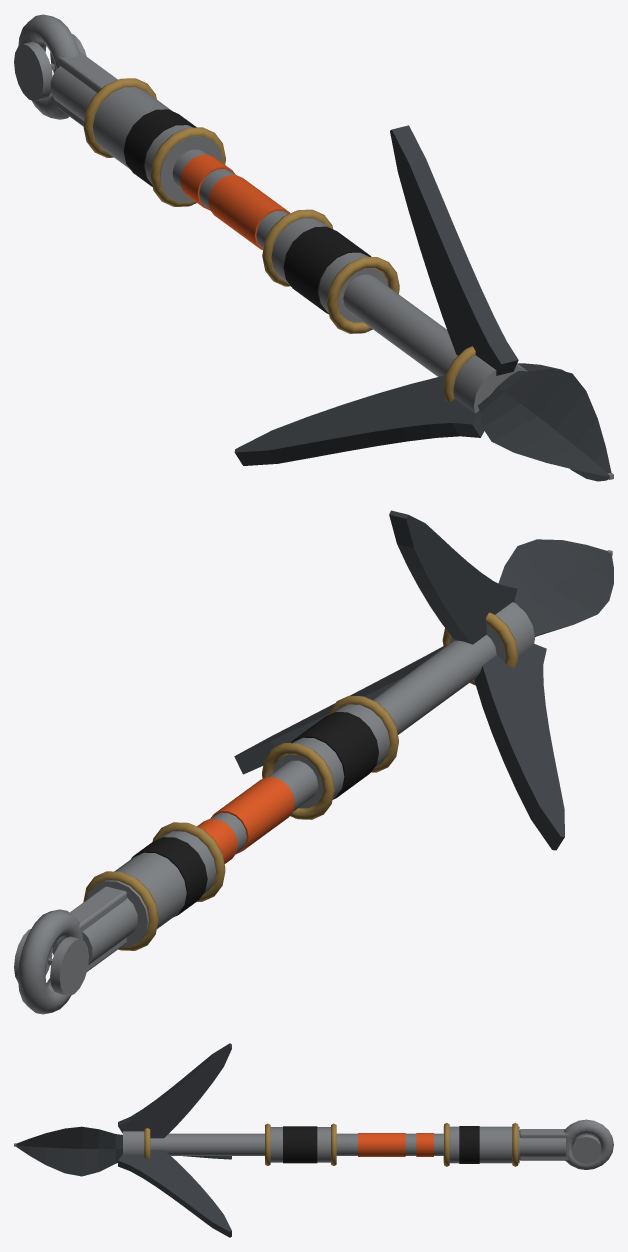
Rendered from grapple_harpoon.fbx.
3 views of the same model, one above another, from view 1: azimuth 30°, elevation 25°; view 2: azimuth 150°, elevation 25°; view 3: azimuth 270°, elevation 25° (orthographic). The views are drawn at different scales.
Parts seen in each view (by area): view 1: Mesh_GrappleHarpoon; view 2: Mesh_GrappleHarpoon; view 3: Mesh_GrappleHarpoon.
Boxes of the visible parts, bbox=[...] form: Mesh_GrappleHarpoon: bbox=[14, 14, 611, 481]; Mesh_GrappleHarpoon: bbox=[14, 510, 613, 1014]; Mesh_GrappleHarpoon: bbox=[16, 1043, 613, 1237].
Bounding box in the file's own units: 30.81 × 26.68 × 94.55.
